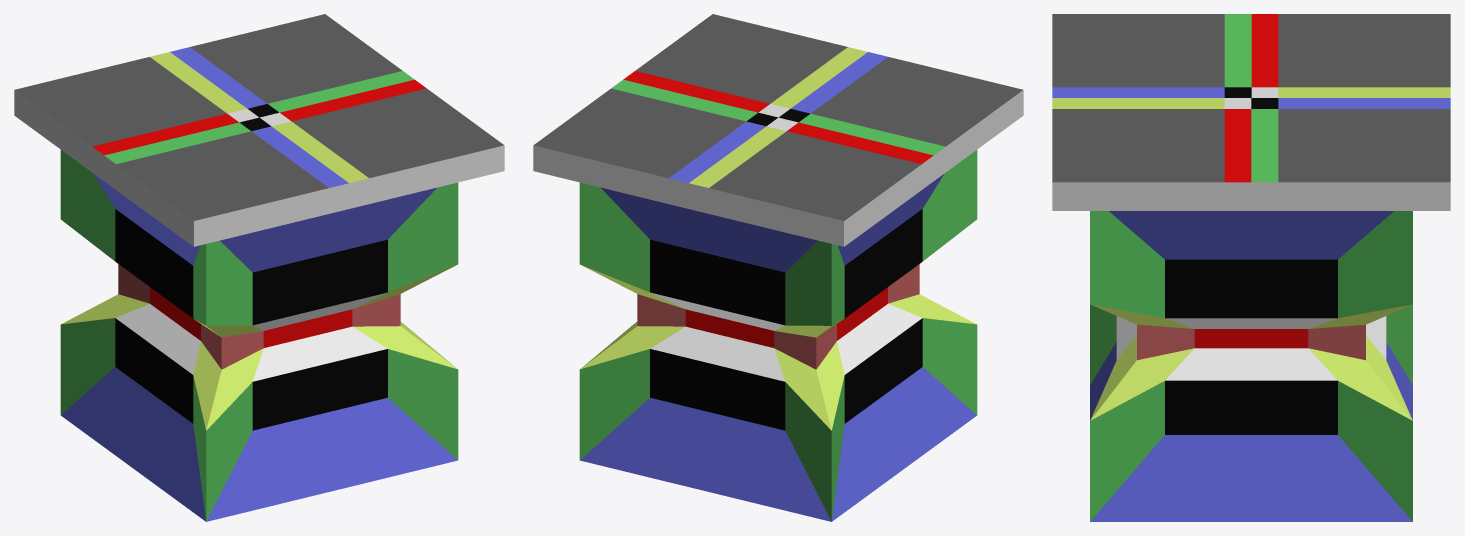
File: GoogleTable.fbx
3 renders of one model, left to right at view 1: azimuth 30°, elevation 25°; view 2: azimuth 150°, elevation 25°; view 3: azimuth 270°, elevation 25°, orthographic. The views are drawn at different scales.
Visible parts, largest first — view 1: pCube1; view 2: pCube1; view 3: pCube1.
Boxes of the visible parts, x1,y1,x2,y2 form: pCube1: (14, 14, 504, 521); pCube1: (533, 14, 1023, 521); pCube1: (1052, 14, 1450, 521).
Bounding box in the file's own units: 1.01 × 0.9974 × 1.01.
